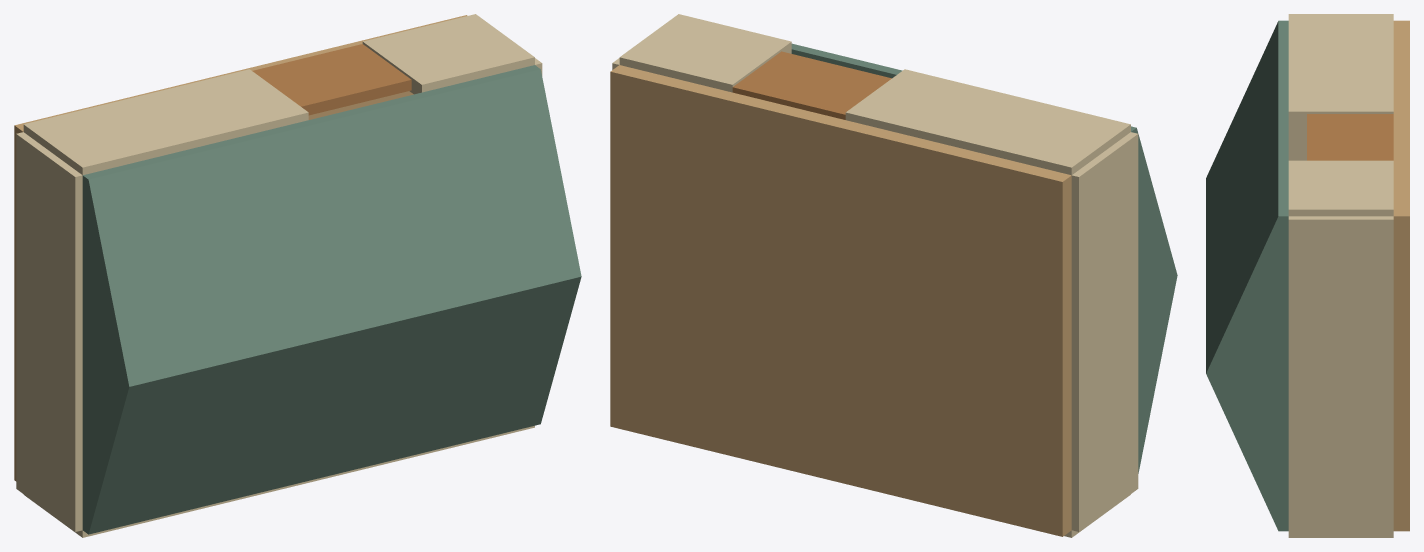
Rendered from cedar-home.obj.
The picture shows the model from 3 angles, left to right: view 1: azimuth 30°, elevation 25°; view 2: azimuth 150°, elevation 25°; view 3: azimuth 270°, elevation 25°; orthographic projection. The views are drawn at different scales.
Parts seen in each view (by area): view 1: roof_tile0-2, roof_tile0-1, roof_tile2-2, roof_tile1-2, roof_tile3-2, roof_tile3-1, roof_tile1-1, roof_tile2-1, roof_tile0-0, roof_tile1-0, roof_tile3-0, roof_tile2-0 (+8 smaller); view 2: foundation_tile0-2, foundation_tile0-1, foundation_tile0-0, foundation_tile2-2, foundation_tile3-2, foundation_tile1-2, foundation_tile2-1, foundation_tile1-0, foundation_tile2-0, foundation_tile3-0, foundation_tile1-1, foundation_tile3-1 (+11 smaller); view 3: walls_edge9, walls_edge7, walls_edge8, roof_tile3-1, roof_tile3-2, walls_edge12, walls_edge11, walls_edge10, door_whole, roof_tile3-0, roof_tile0-2, roof_tile1-2 (+12 smaller).
Boxes of the visible parts, x1,y1,x2,y2 form: roof_tile0-2: [82, 147, 228, 317]; roof_tile0-1: [82, 290, 242, 435]; roof_tile2-2: [309, 92, 454, 262]; roof_tile1-2: [196, 120, 341, 289]; roof_tile3-2: [422, 65, 567, 234]; roof_tile3-1: [455, 207, 581, 353]; roof_tile1-1: [229, 262, 355, 408]; roof_tile2-1: [342, 235, 468, 380]; roof_tile0-0: [82, 408, 228, 534]; roof_tile1-0: [201, 381, 341, 506]; roof_tile3-0: [428, 326, 567, 451]; roof_tile2-0: [315, 353, 454, 479]; foundation_tile0-2: [949, 148, 1071, 300]; foundation_tile0-1: [949, 273, 1071, 418]; foundation_tile0-0: [949, 391, 1071, 536]; foundation_tile2-2: [723, 92, 845, 244]; foundation_tile3-2: [610, 65, 732, 217]; foundation_tile1-2: [836, 120, 958, 272]; foundation_tile2-1: [723, 217, 836, 363]; foundation_tile1-0: [836, 363, 949, 509]; foundation_tile2-0: [723, 336, 836, 481]; foundation_tile3-0: [610, 308, 723, 453]; foundation_tile1-1: [836, 245, 949, 390]; foundation_tile3-1: [610, 190, 723, 335]; walls_edge9: [1288, 216, 1393, 324]; walls_edge7: [1288, 429, 1393, 534]; walls_edge8: [1288, 324, 1393, 429]; roof_tile3-1: [1206, 273, 1288, 426]; roof_tile3-2: [1230, 167, 1288, 321]; walls_edge12: [1288, 160, 1393, 216]; walls_edge11: [1288, 63, 1393, 125]; walls_edge10: [1288, 14, 1393, 62]; door_whole: [1307, 114, 1393, 160]; roof_tile3-0: [1230, 426, 1288, 531]; roof_tile0-2: [1230, 20, 1288, 173]; roof_tile1-2: [1230, 69, 1288, 222].
Bounding box in the file's own units: 4.13 × 3.13 × 1.76.
